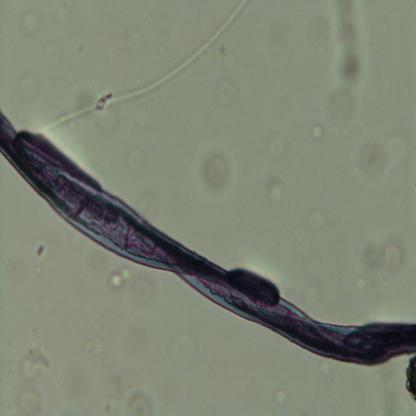Background material: (329, 0, 365, 122), (358, 134, 411, 178), (116, 369, 153, 415), (362, 236, 406, 273), (202, 152, 233, 193), (20, 347, 49, 381), (211, 78, 240, 112), (107, 263, 135, 293), (265, 130, 289, 164), (300, 281, 326, 312), (131, 276, 156, 308), (17, 383, 41, 416), (18, 71, 40, 103), (402, 357, 416, 404), (266, 182, 286, 213), (128, 35, 153, 59), (86, 335, 108, 360), (128, 144, 146, 174), (136, 191, 156, 214), (21, 11, 40, 35), (310, 211, 329, 234), (270, 386, 290, 406), (310, 121, 326, 144), (95, 92, 113, 110), (33, 242, 47, 263), (318, 360, 334, 378)
Cotton: (0, 112, 416, 368)
Glass filter fibre: (42, 0, 249, 132)
